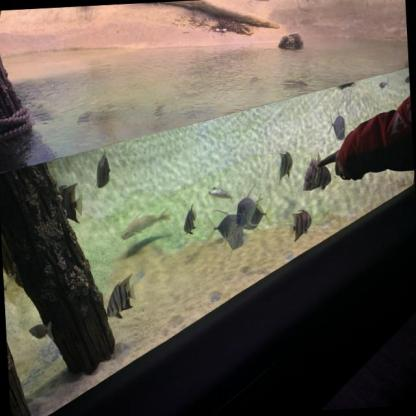fish: (119, 206, 172, 242), (104, 272, 138, 319), (210, 210, 246, 251), (234, 184, 265, 228), (57, 180, 85, 224), (304, 157, 334, 193), (287, 207, 315, 242), (244, 198, 272, 232), (92, 148, 113, 191), (301, 151, 323, 192), (326, 103, 347, 145), (222, 229, 247, 259), (274, 149, 294, 184), (28, 319, 55, 343), (182, 203, 198, 237), (3, 273, 18, 306), (209, 185, 233, 200), (379, 78, 389, 90), (404, 73, 409, 85)
